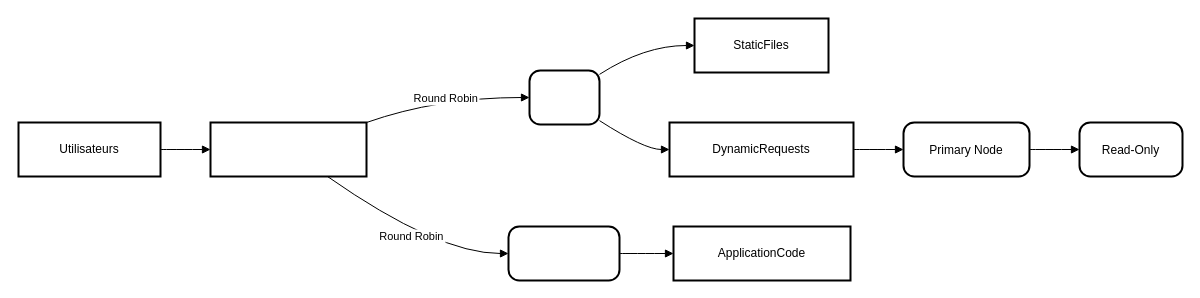
This 1200x298 diagram has some shape labels left out. The shapes that lost their labels are listed below. From the top down, each one's centre as x and y in pixels, then its label:
pixel 564 97: Nginx
pixel 288 149: LoadBalancer
pixel 563 253: Application
